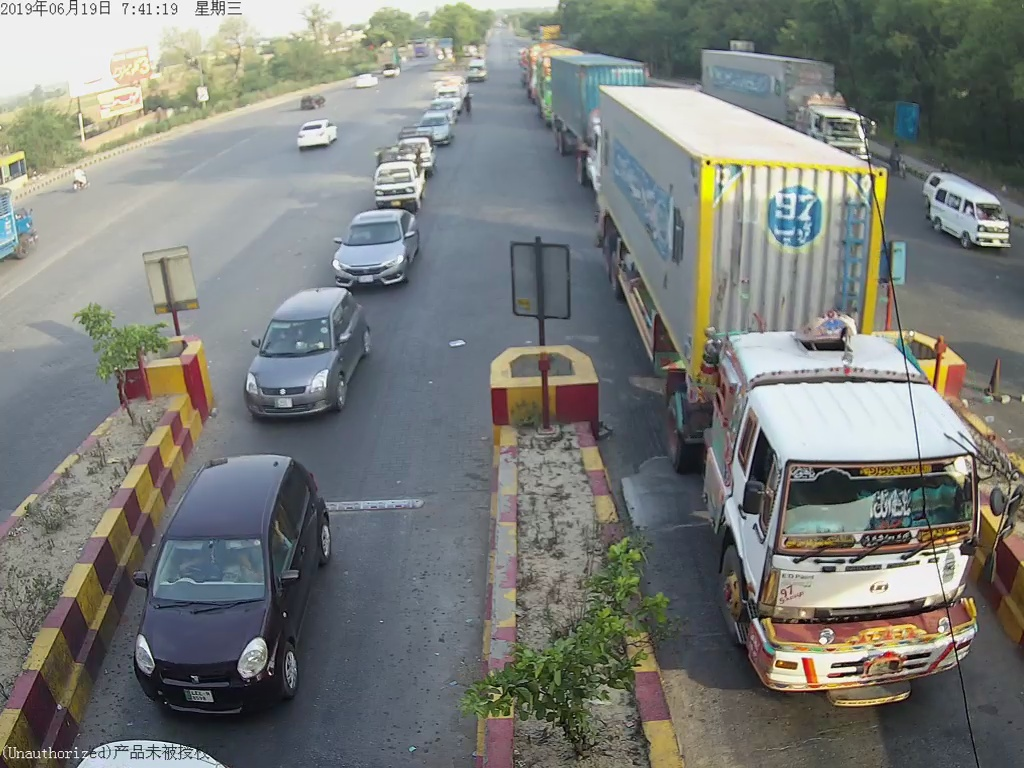Cat-1: (136, 458, 343, 722), (245, 293, 384, 414), (329, 212, 416, 280)
Cat-5: (592, 83, 987, 729)
